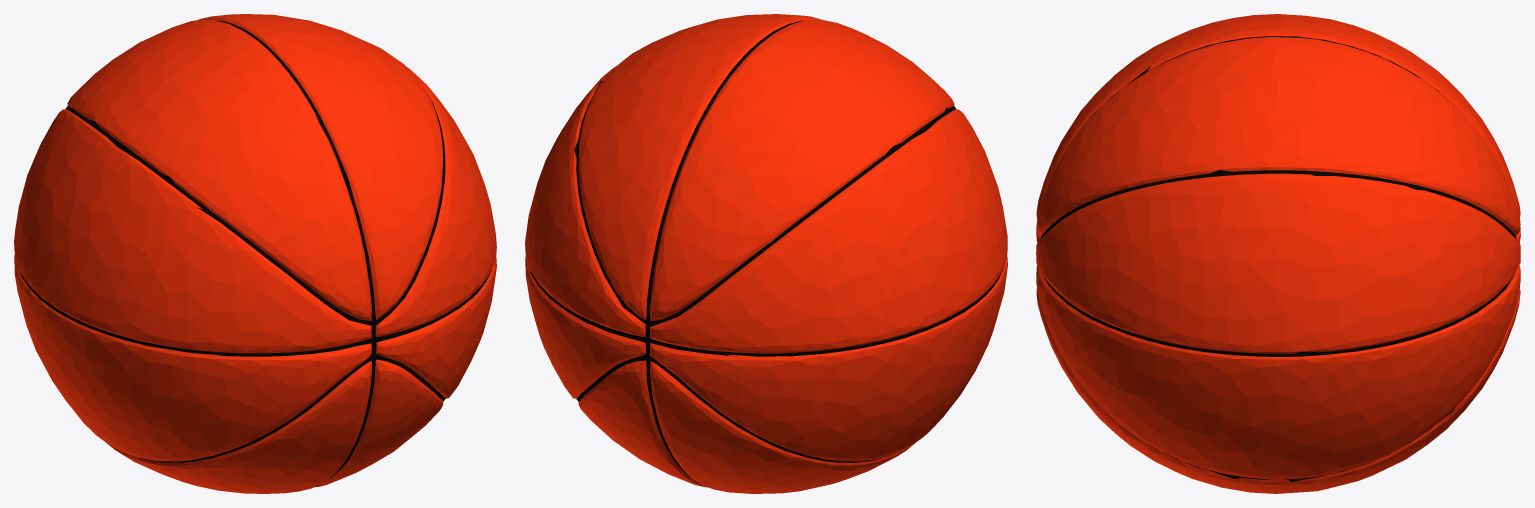
Rendered from basketball.obj.
3 views of the same model, side by side, from view 1: azimuth 30°, elevation 25°; view 2: azimuth 150°, elevation 25°; view 3: azimuth 270°, elevation 25° (orthographic).
Parts seen in each view (by area): view 1: Palla_da_basket; view 2: Palla_da_basket; view 3: Palla_da_basket.
Part boxes in pixels (x1,y1,x2,y2): Palla_da_basket: (14,14,496,493); Palla_da_basket: (525,14,1007,493); Palla_da_basket: (1036,14,1520,493).
Size of the model in its own units: 0.2348 by 0.2349 by 0.2351.
